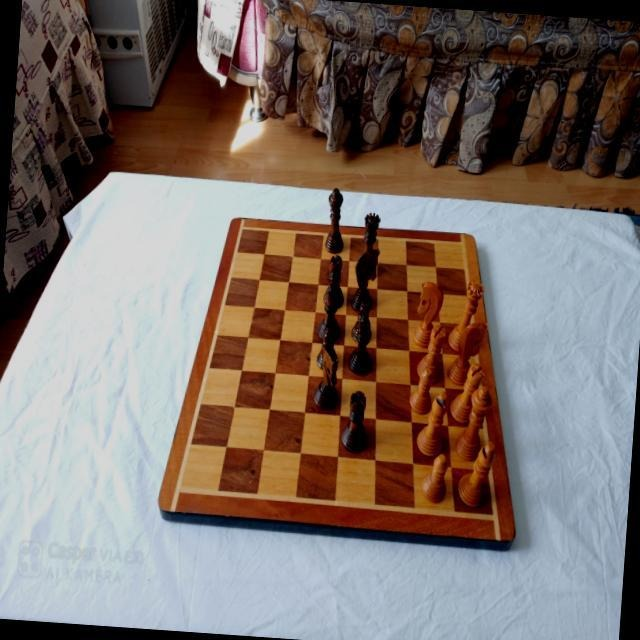black-bishop: (348, 312, 376, 376), (317, 280, 343, 341)
black-king: (322, 187, 347, 253)
black-knight: (310, 342, 341, 410), (348, 246, 379, 314)
black-pawn: (316, 325, 340, 369), (350, 299, 373, 343)
black-queen: (352, 209, 381, 279)
black-rook: (338, 388, 370, 454), (323, 253, 347, 308)
white-bishop: (456, 438, 496, 510), (415, 389, 447, 459)
white-king: (453, 383, 492, 463)
white-knight: (445, 319, 487, 386), (411, 279, 444, 349)
white-pawn: (418, 452, 449, 504), (408, 365, 436, 414)
white-queen: (445, 276, 484, 352)
white-rook: (448, 359, 486, 425), (414, 322, 445, 384)
